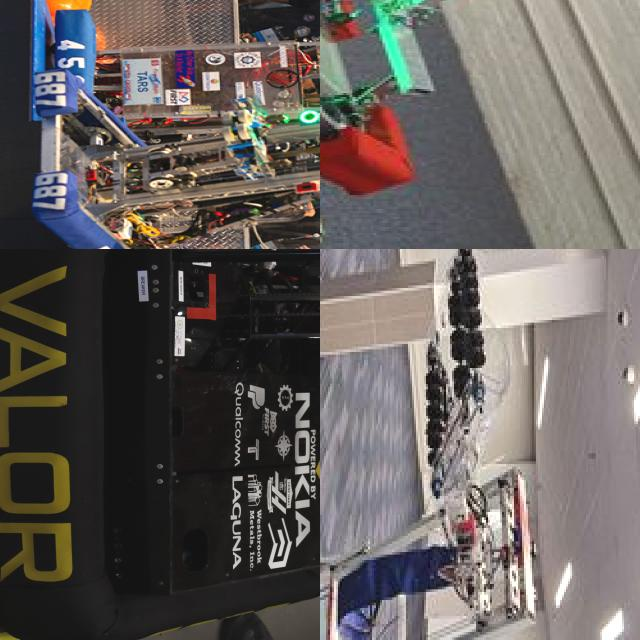FRC-Robots: (0, 249, 320, 640), (320, 255, 591, 640), (320, 0, 640, 234), (29, 0, 320, 249)
